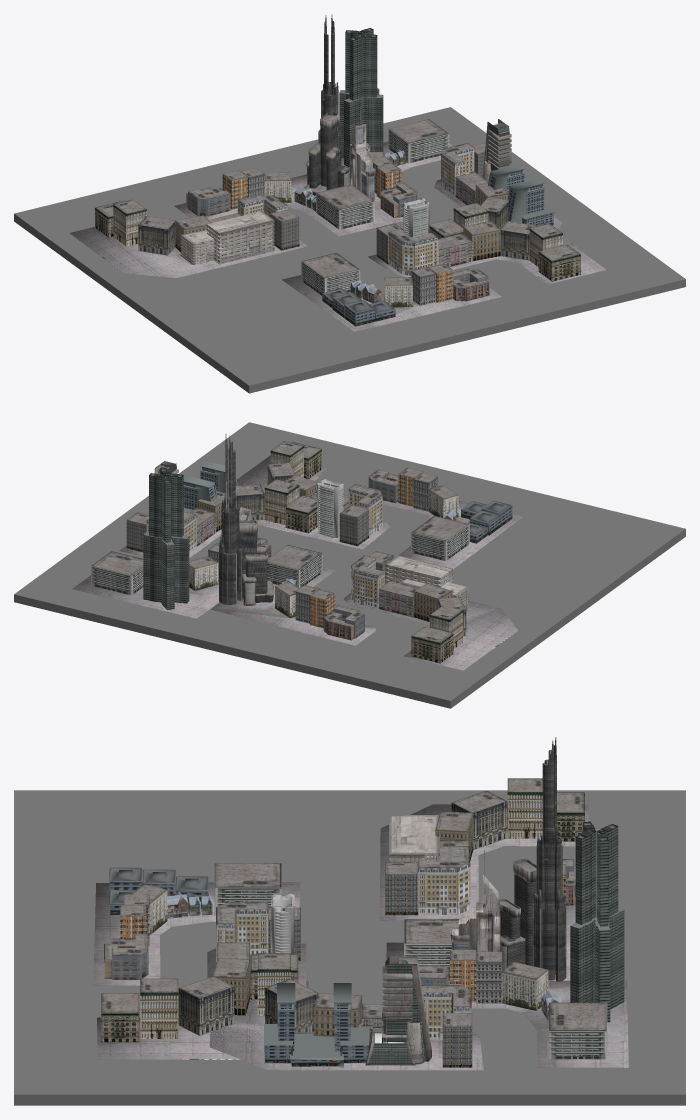
Rendered from city.fbx.
3 views of the same model, one above another, from view 1: azimuth 30°, elevation 25°; view 2: azimuth 150°, elevation 25°; view 3: azimuth 270°, elevation 25° (orthographic). The views are drawn at different scales.
Parts seen in each view (by area): view 1: The_City:bldgs2, The_City:mesh01; view 2: The_City:bldgs2, The_City:mesh01; view 3: The_City:bldgs2, The_City:mesh01.
Part boxes in pixels (box(x1,y1,x2,y2)): The_City:bldgs2: box(14, 14, 685, 393); The_City:mesh01: box(70, 119, 606, 331); The_City:bldgs2: box(14, 422, 685, 708); The_City:mesh01: box(72, 441, 522, 670); The_City:bldgs2: box(14, 737, 685, 1105); The_City:mesh01: box(93, 778, 628, 1070).
Size of the model in its own units: 2277 by 871 by 2124.
4 materials, 3 textured.
